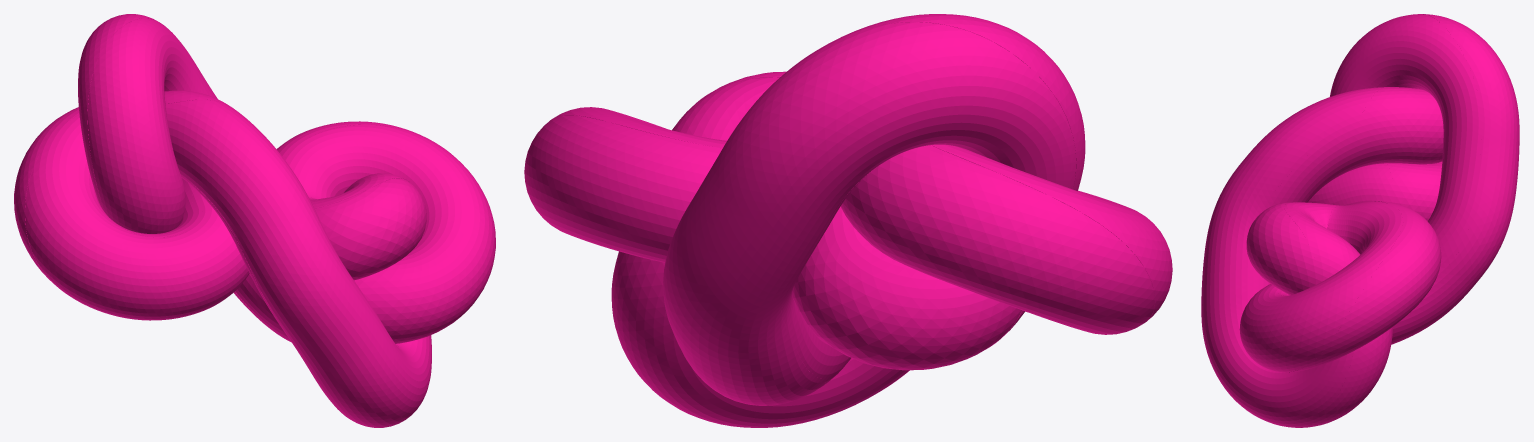
The model's file is gem_874009817.gltf.
3 renders of one model, left to right at view 1: azimuth 30°, elevation 25°; view 2: azimuth 150°, elevation 25°; view 3: azimuth 270°, elevation 25°, orthographic. The views are drawn at different scales.
Bounding box in the file's own units: 1.63 × 1.35 × 1.19.
